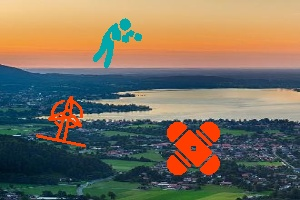人: (91, 18, 142, 67)
小风扇: (36, 96, 89, 153)
空间站模型: (165, 120, 221, 180)
